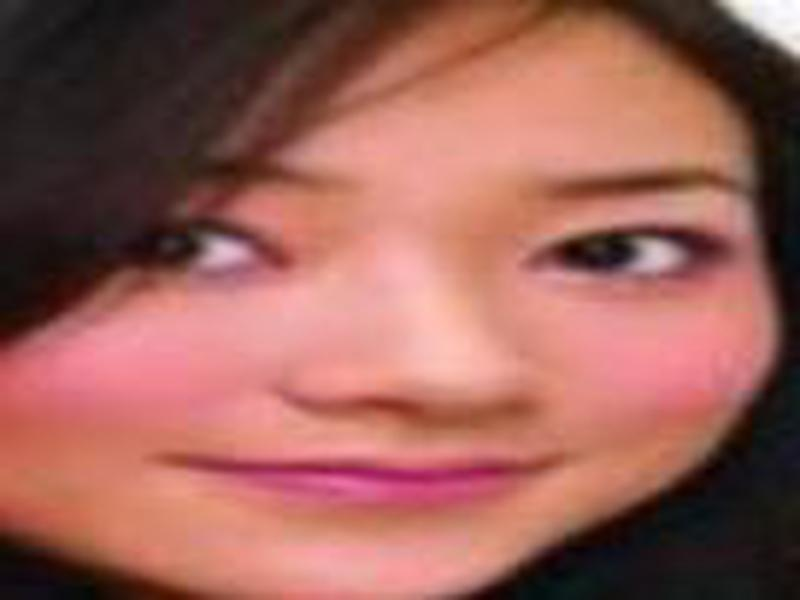without_mask: (6, 48, 780, 595)
